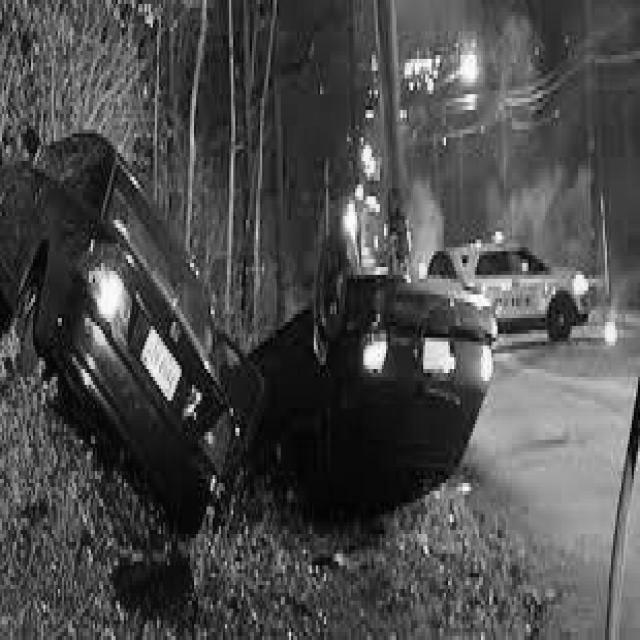accident: (221, 216, 497, 507)
vehicle: (1, 122, 237, 538), (480, 228, 593, 342)
